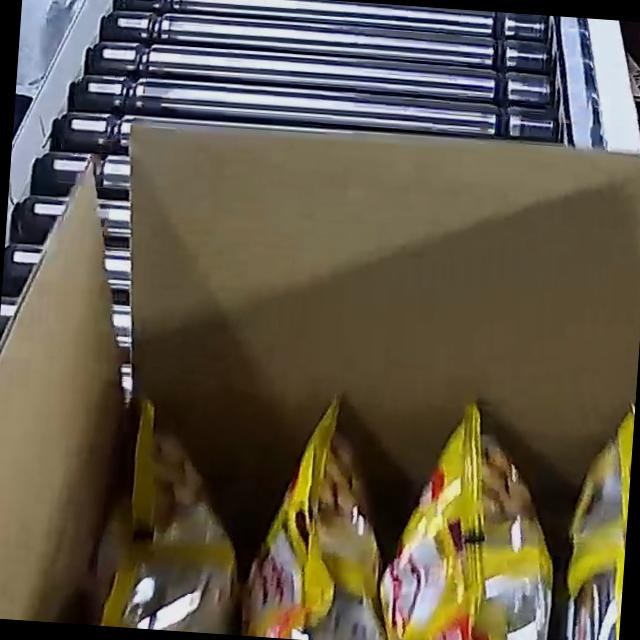salted: (90, 372, 634, 640)
